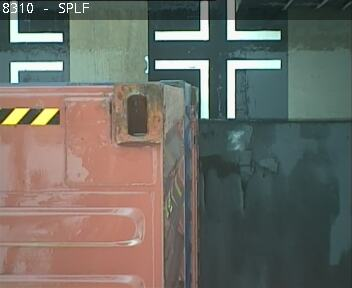groundmarker_1: (155, 59, 278, 118), (156, 1, 280, 39), (9, 1, 62, 84)
